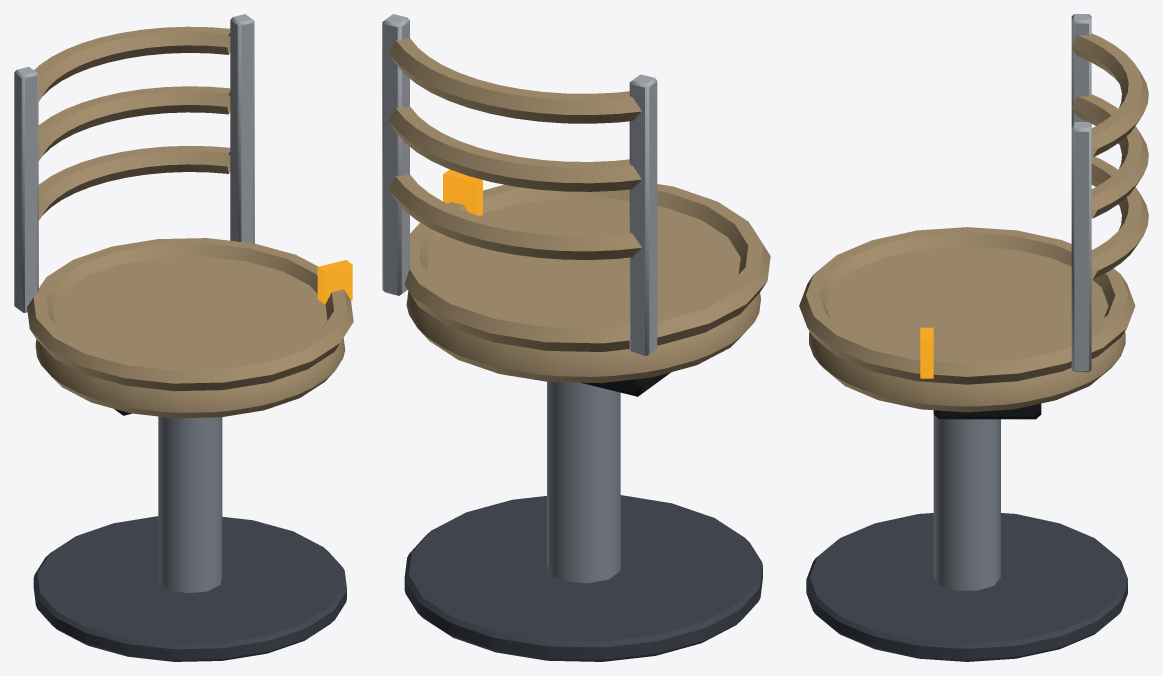
Rendered from seat_swivel_jump_seat.glb.
3 views of the same model, side by side, from view 1: azimuth 30°, elevation 25°; view 2: azimuth 150°, elevation 25°; view 3: azimuth 270°, elevation 25° (orthographic). The views are drawn at different scales.
Visible parts, largest first — view 1: seat_swivel_jump_seat; view 2: seat_swivel_jump_seat; view 3: seat_swivel_jump_seat.
Boxes of the visible parts, x1,y1,x2,y2 form: seat_swivel_jump_seat: (14,14,353,661); seat_swivel_jump_seat: (382,14,770,661); seat_swivel_jump_seat: (799,14,1148,661).
Size of the model in its own units: 0.5 by 0.86 by 0.5199.
